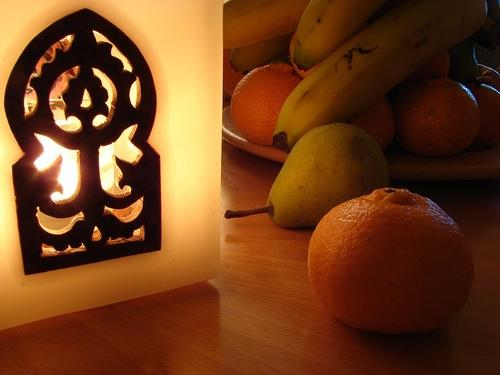banana: (273, 0, 487, 152), (293, 0, 388, 72), (223, 0, 311, 49), (230, 32, 295, 72)
pear: (224, 122, 390, 228)
